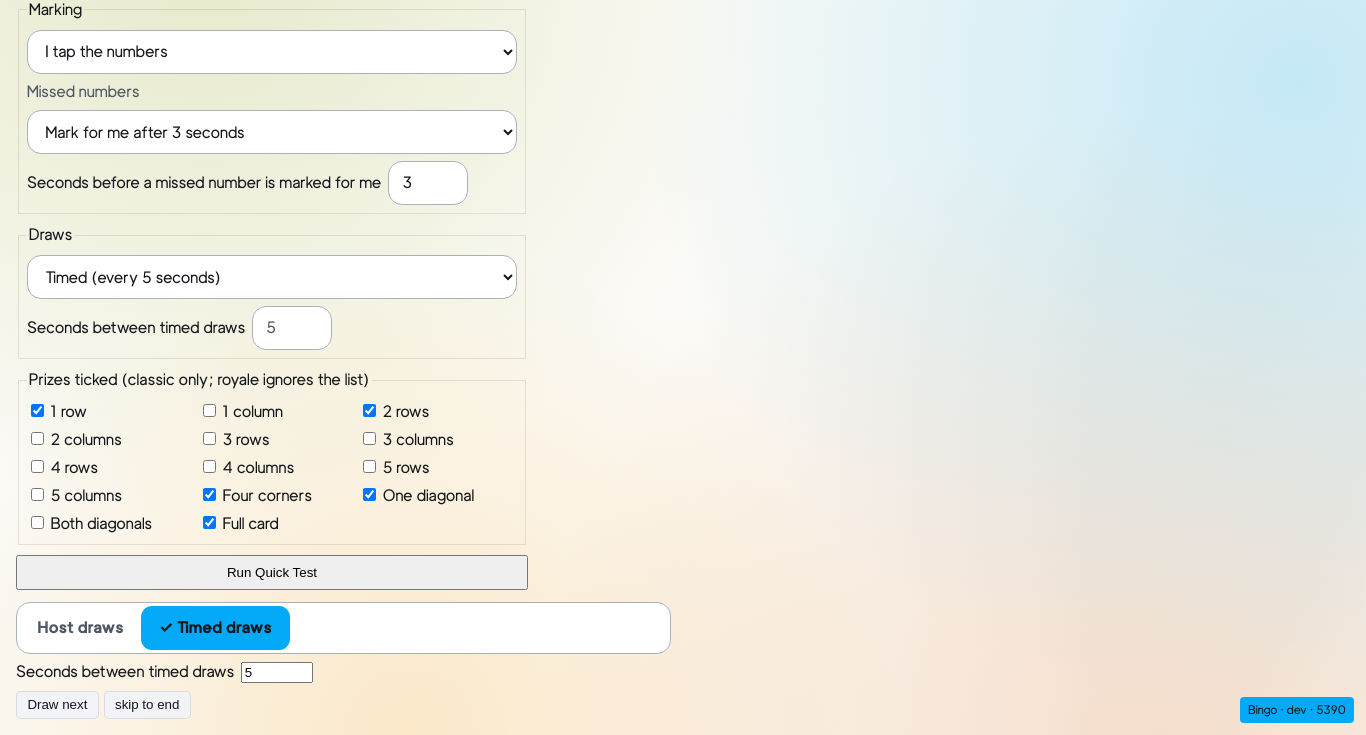
Scenario: a new run › starts the owner card from the new run only, even in the same round
The image size is (1366, 735).
(page scrolled)
Click the button with test id "start-run": (272, 572) left=16, top=555, right=528, bottom=590
Wait 1000 ms
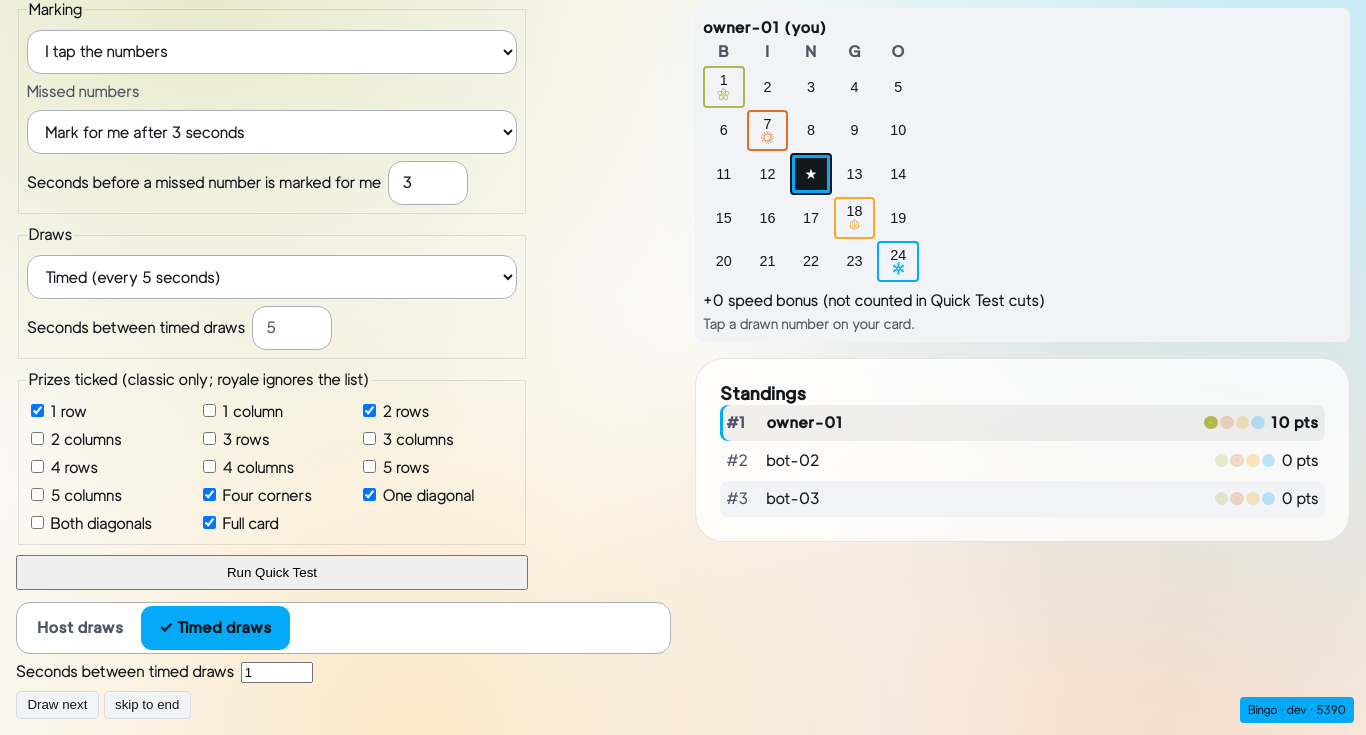
Click the button with test id "owner-cell-0": (724, 87) left=703, top=66, right=745, bottom=108
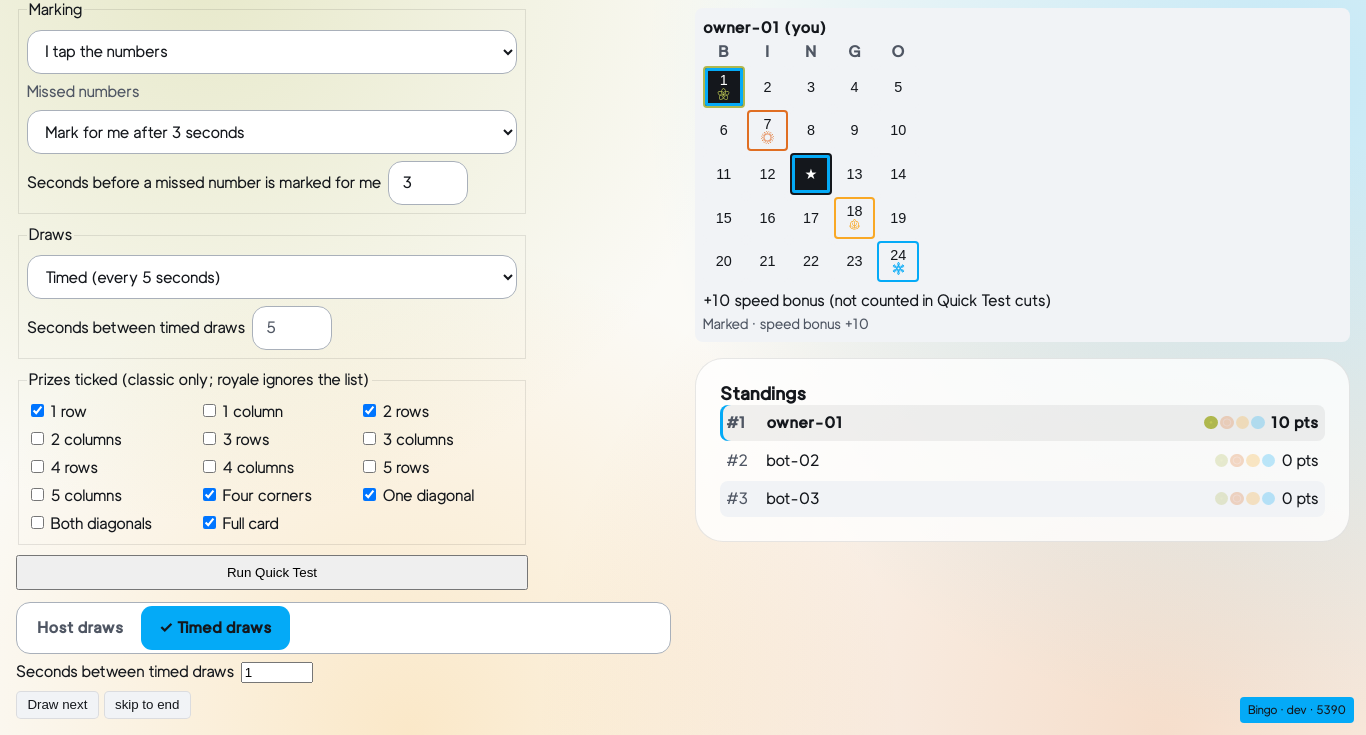
Expected: the text with test id "owner-bonus" no longer shows "+0 speed bonus"
Click the button with test id "start-run": (272, 572) left=16, top=555, right=528, bottom=590
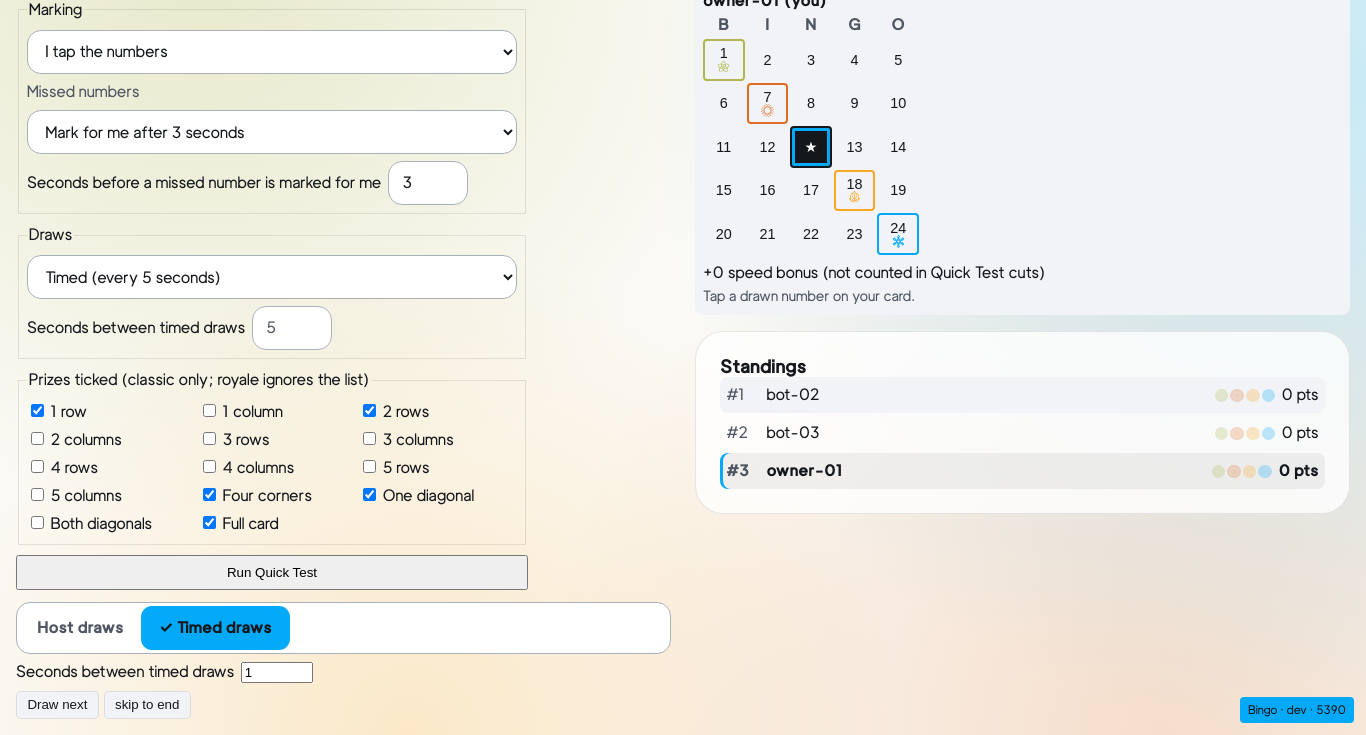
Expected: the text with test id "owner-bonus" reads "+0 speed bonus (not counted in Quick Test cuts)", left=703, top=263, right=1045, bottom=282
Expected: the message with test id "owner-feedback" reads "Tap a drawn number on your card.", left=703, top=287, right=915, bottom=304
